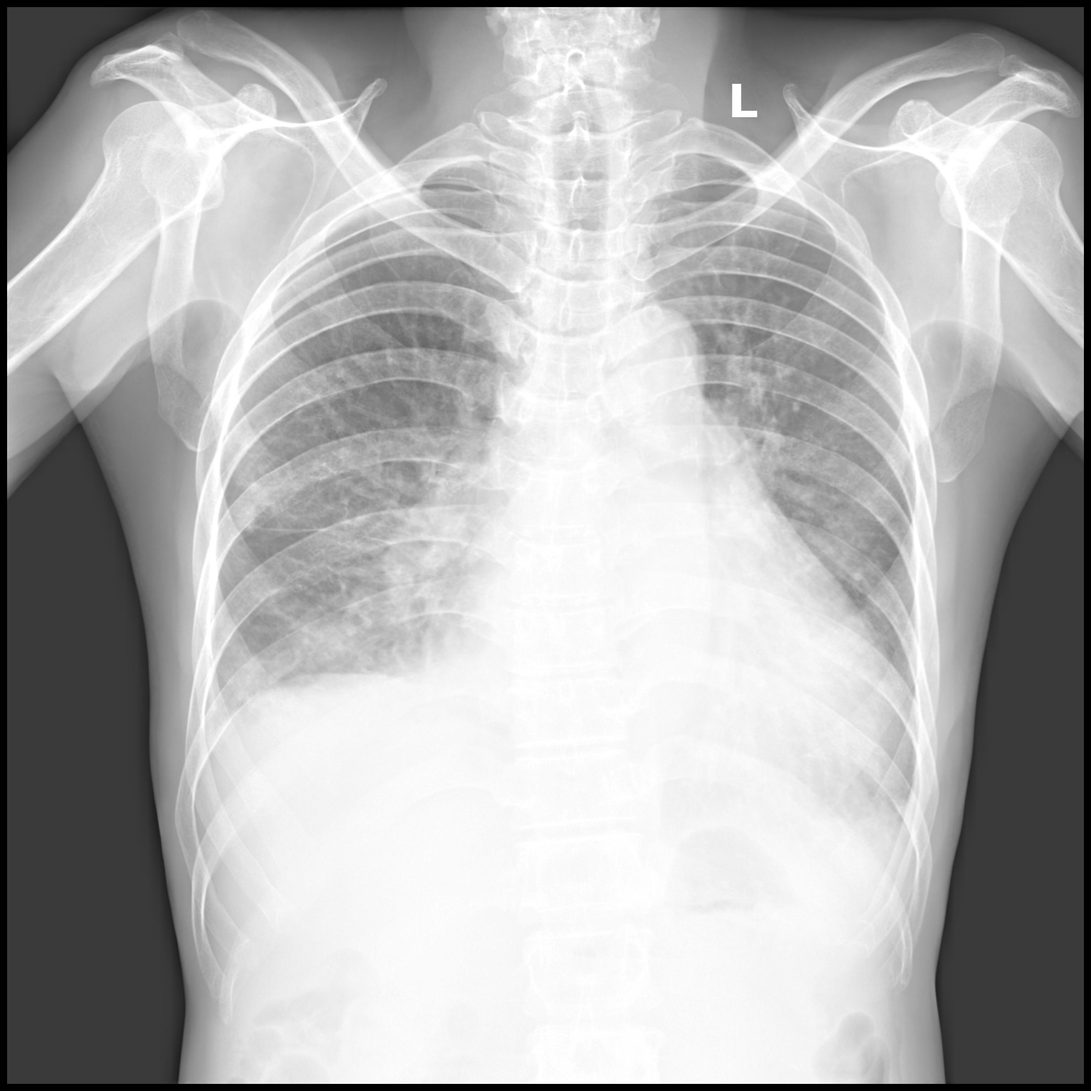Aortic enlargement: (593, 316, 707, 403)
Cardiomegaly: (431, 590, 904, 786)
Pulmonary fibrosis: (232, 448, 464, 701)
